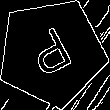P_SE: (24, 21, 80, 84)
